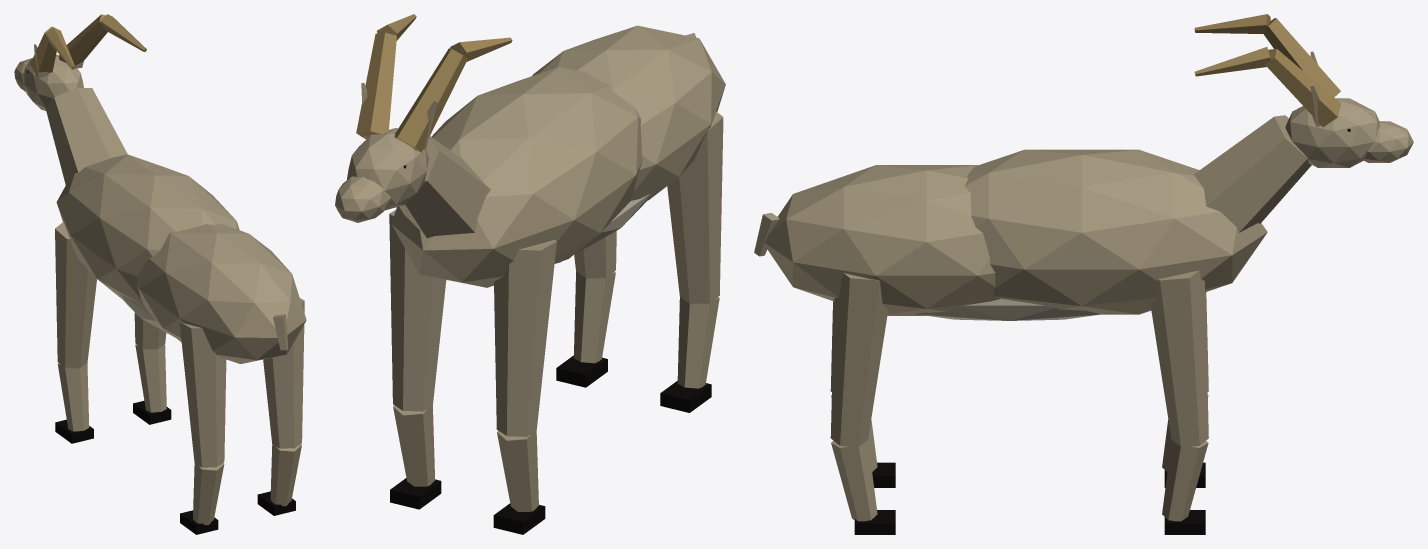
The model's file is animal_goat.fbx.
3 views of the same model, side by side, from view 1: azimuth 30°, elevation 25°; view 2: azimuth 150°, elevation 25°; view 3: azimuth 270°, elevation 25° (orthographic). The views are drawn at different scales.
Visible parts, largest first — view 1: animal_goat; view 2: animal_goat; view 3: animal_goat.
Boxes of the visible parts, x1,y1,x2,y2 form: animal_goat: (14,14,306,534); animal_goat: (335,14,725,534); animal_goat: (754,14,1413,534).
Size of the model in its own units: 0.3424 by 1.01 by 1.28.
